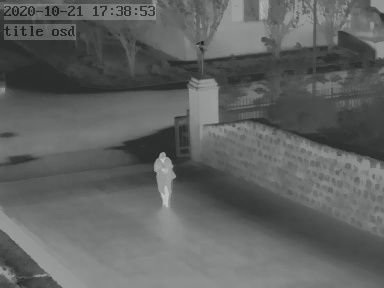person: (156, 145, 176, 207)
